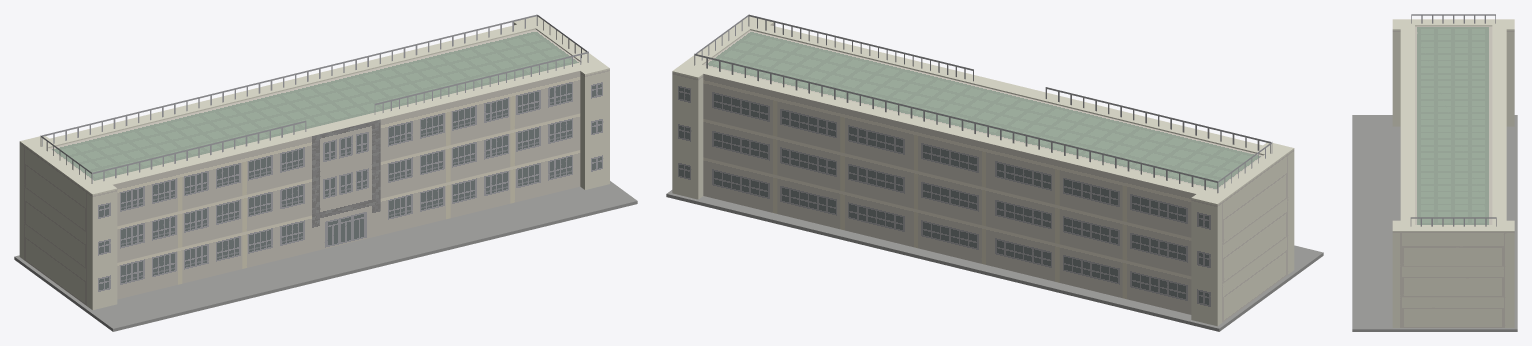
Rendered from 02bf_Elementary_School.glb.
3 renders of one model, left to right at view 1: azimuth 30°, elevation 25°; view 2: azimuth 150°, elevation 25°; view 3: azimuth 270°, elevation 25°, orthographic. The views are drawn at different scales.
Visible parts, largest first — view 1: part_0; view 2: part_0; view 3: part_0.
Part boxes in pixels (x1,y1,x2,y2): part_0: (14,14,637,331); part_0: (666,14,1323,331); part_0: (1352,14,1517,331).
Bounding box in the file's own units: 41.69 × 9.89 × 13.61.
1 material, 1 textured.
